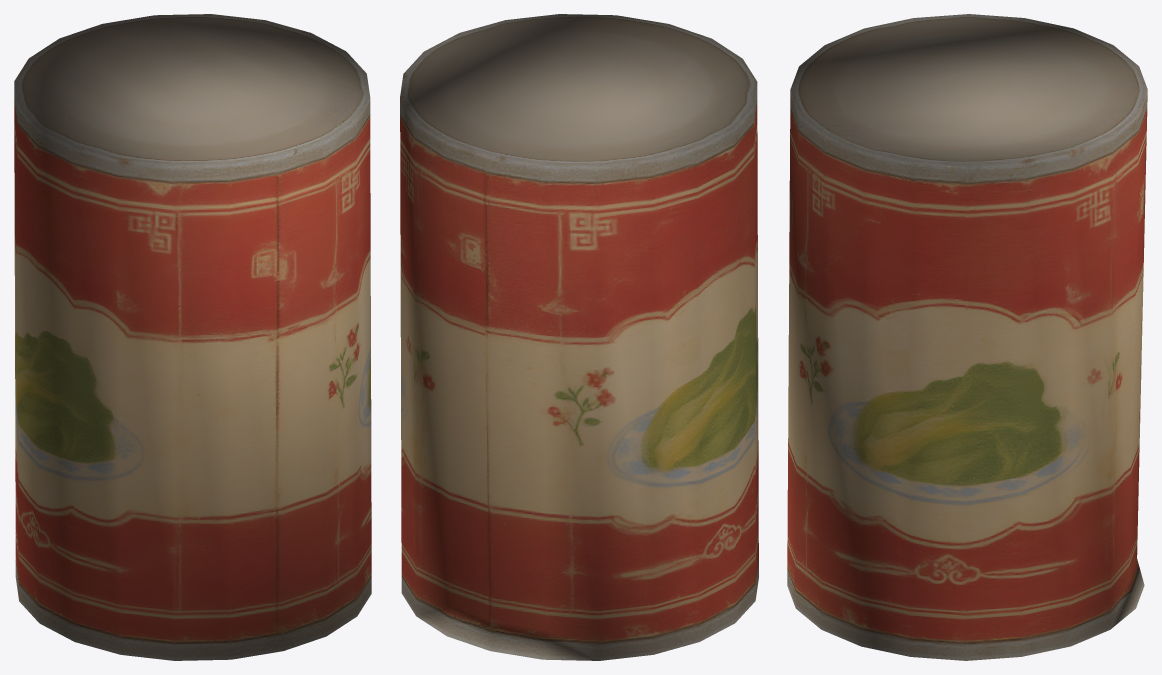
File: food-tin.glb
The picture shows the model from 3 angles, left to right: view 1: azimuth 30°, elevation 25°; view 2: azimuth 150°, elevation 25°; view 3: azimuth 270°, elevation 25°; orthographic projection.
Parts seen in each view (by area): view 1: tripo_node_77df3aeb-028a-45bf-9116-4d6325beb04c; view 2: tripo_node_77df3aeb-028a-45bf-9116-4d6325beb04c; view 3: tripo_node_77df3aeb-028a-45bf-9116-4d6325beb04c.
Boxes of the visible parts, x1,y1,x2,y2 form: tripo_node_77df3aeb-028a-45bf-9116-4d6325beb04c: (14, 14, 371, 660); tripo_node_77df3aeb-028a-45bf-9116-4d6325beb04c: (400, 14, 758, 660); tripo_node_77df3aeb-028a-45bf-9116-4d6325beb04c: (787, 14, 1147, 660).
Size of the model in its own units: 0.6543 by 0.998 by 0.6582.
1 material, 1 textured.
